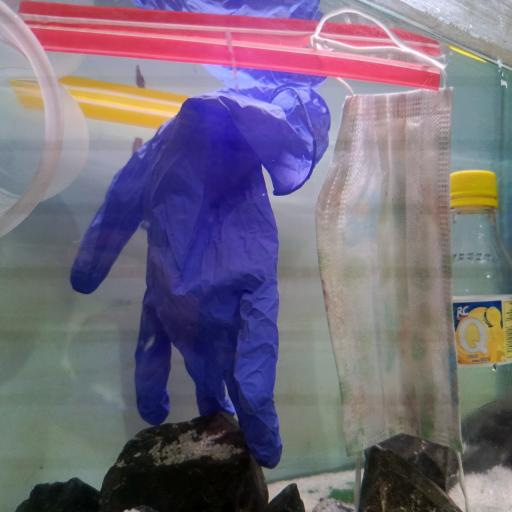bottle_cap: (450, 170, 496, 197)
glove: (73, 82, 334, 470)
mask: (313, 10, 464, 478)
plastic_bottle: (448, 169, 512, 512)
plastic_cup: (0, 0, 91, 238)
plastic_straw: (24, 19, 443, 92), (13, 80, 170, 128)
